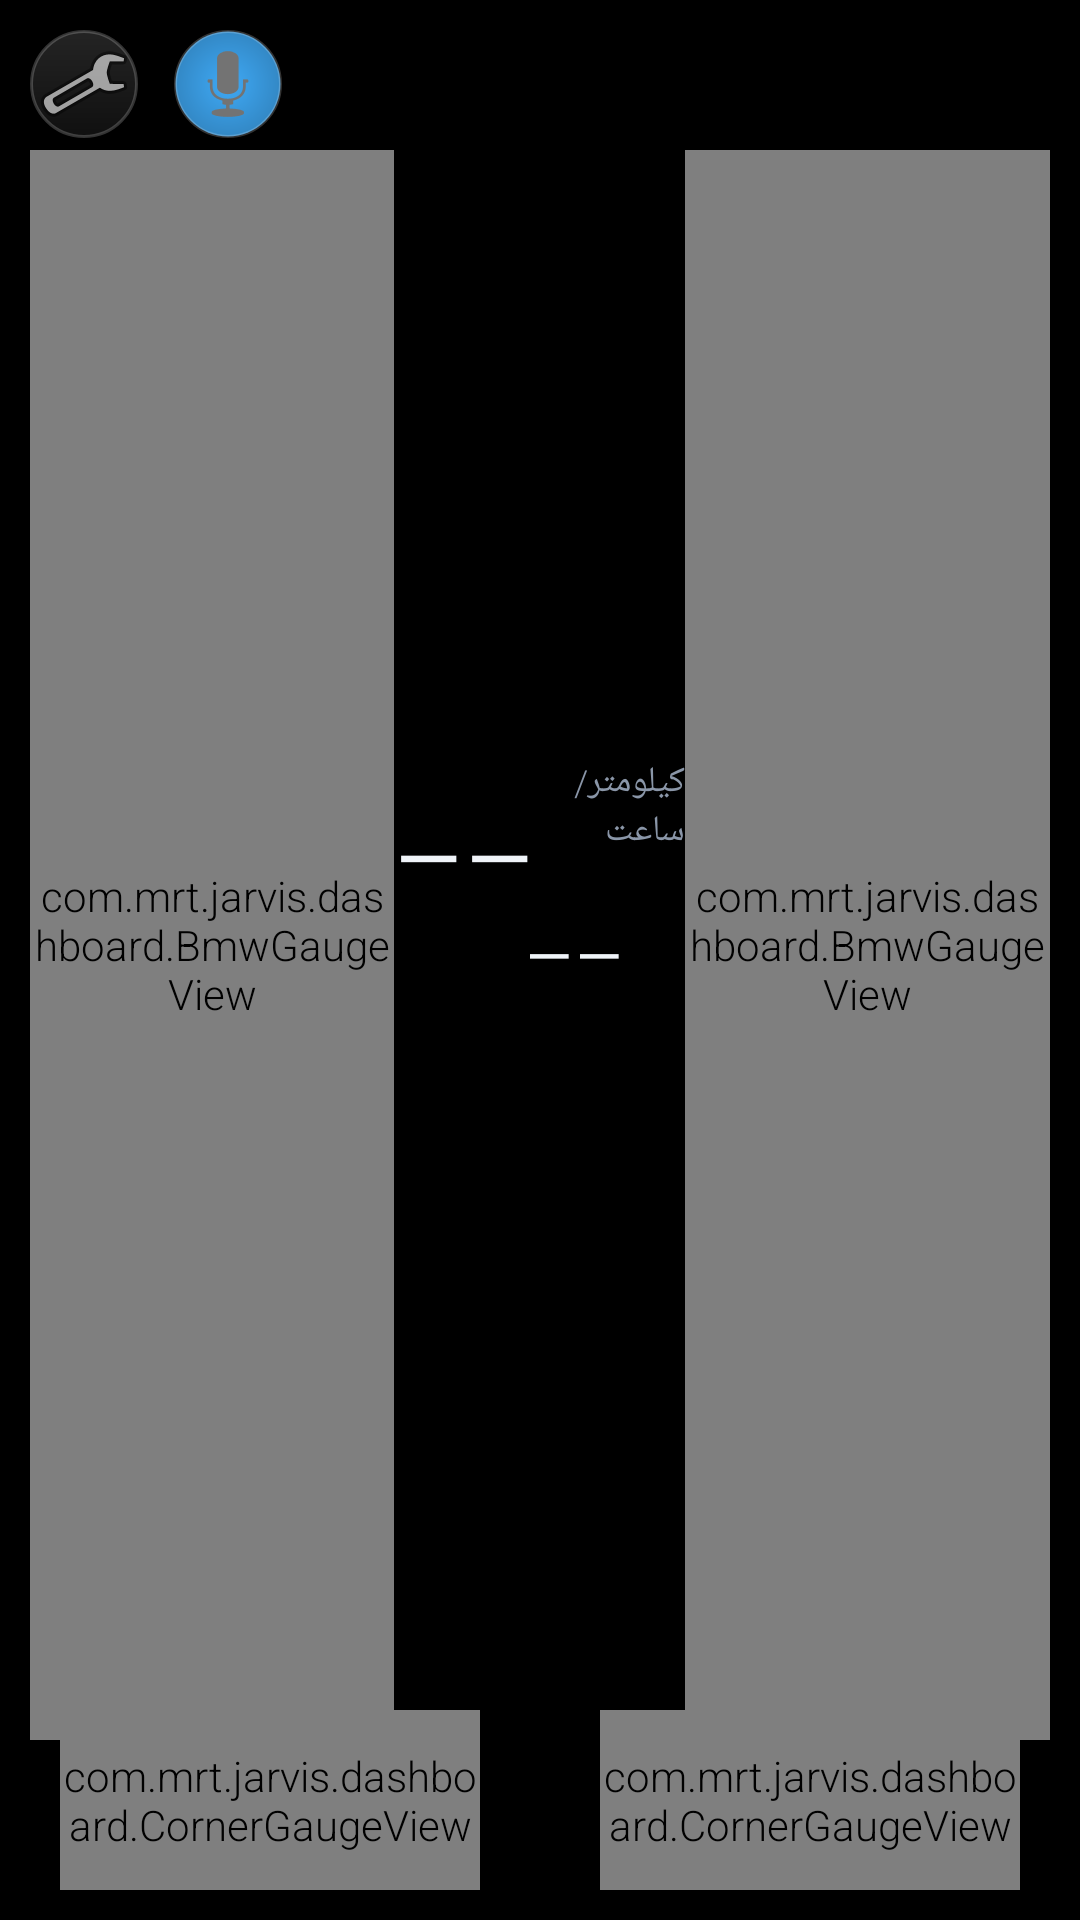

Where icons sit on this 1080×1920 app screen, as {"x1": x1, "y1": y1, "x2": x2, "y2": y2}:
تنظیمات: {"x1": 30, "y1": 30, "x2": 138, "y2": 138}
میکروفون: {"x1": 174, "y1": 30, "x2": 282, "y2": 138}
